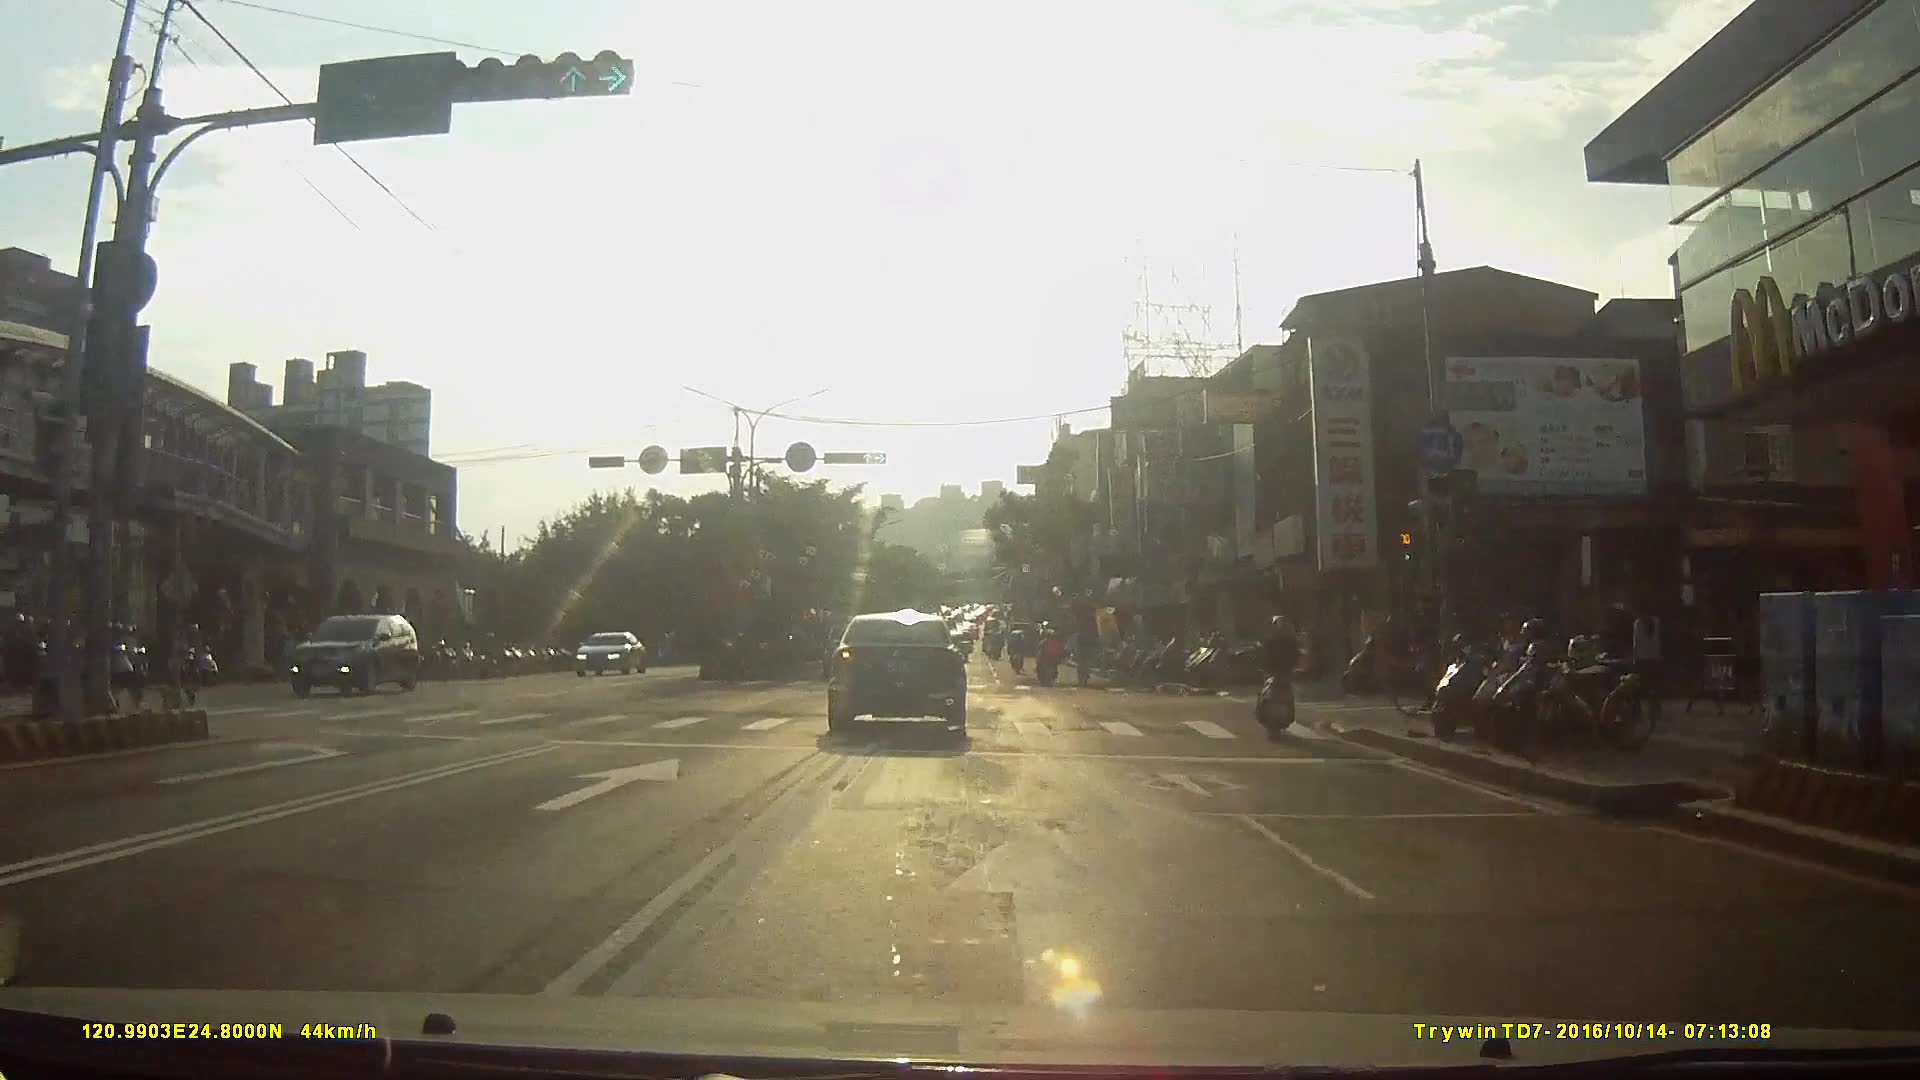pedestrian: (1629, 597, 1667, 703)
rider: (1255, 617, 1312, 740), (74, 626, 136, 691), (1036, 631, 1065, 693), (1007, 635, 1029, 680)
vehicle: (827, 609, 982, 747), (285, 614, 429, 697), (575, 632, 649, 682)
